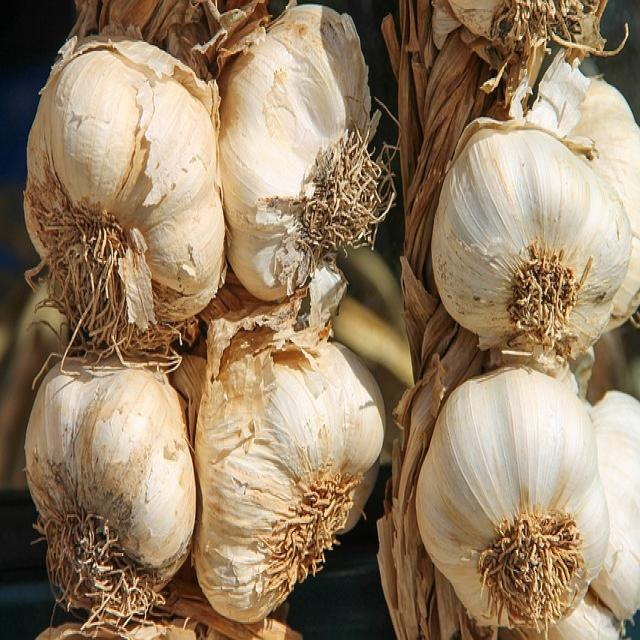garlic: (25, 34, 225, 368), (195, 341, 384, 622), (416, 367, 609, 629), (431, 127, 631, 358), (219, 6, 371, 301), (25, 365, 196, 580), (570, 79, 640, 329), (590, 392, 640, 620)
